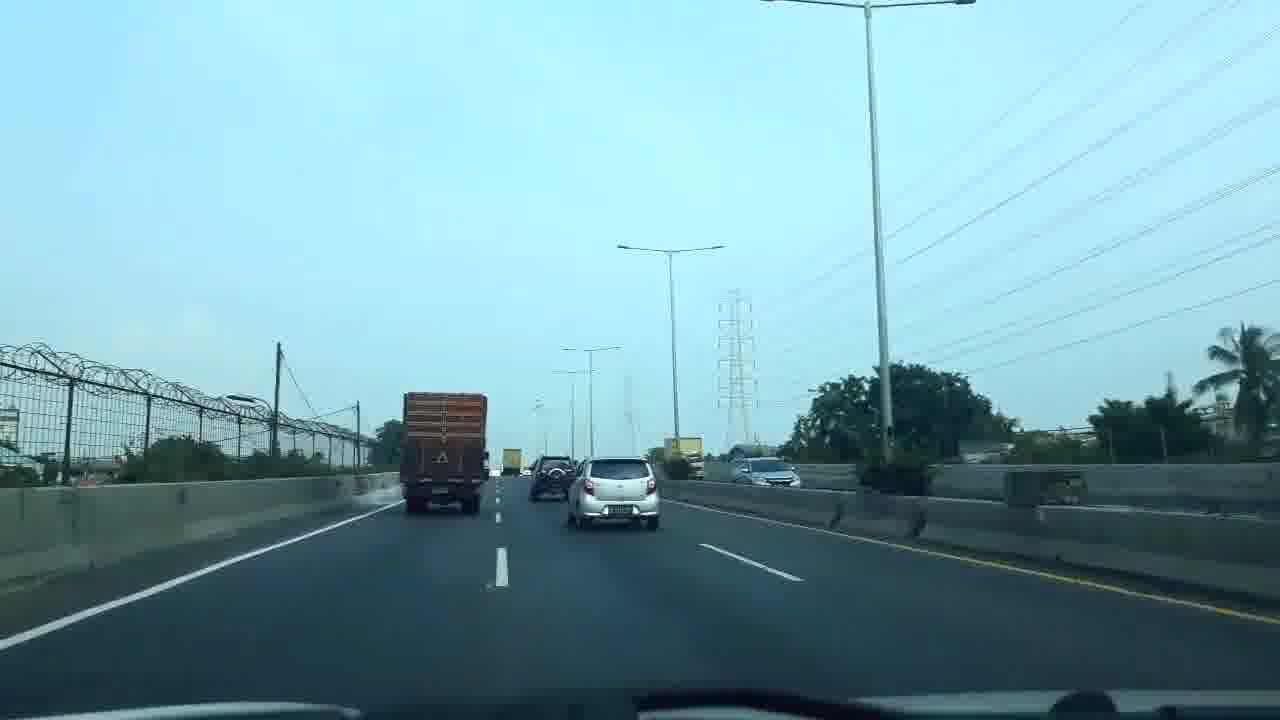plate_positive: (608, 505, 634, 515)
